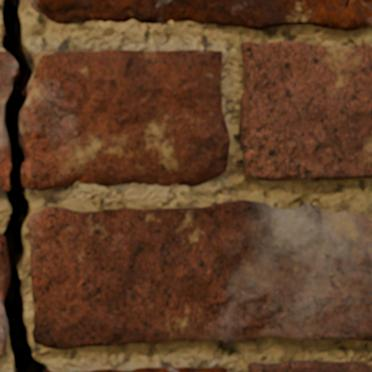brick: (28, 201, 371, 348), (239, 41, 371, 180), (28, 0, 371, 29), (248, 361, 371, 371), (0, 235, 6, 354)
broken_brick: (22, 49, 230, 191), (0, 50, 15, 104), (85, 366, 227, 371), (0, 122, 9, 190)
crack: (0, 0, 48, 371)
